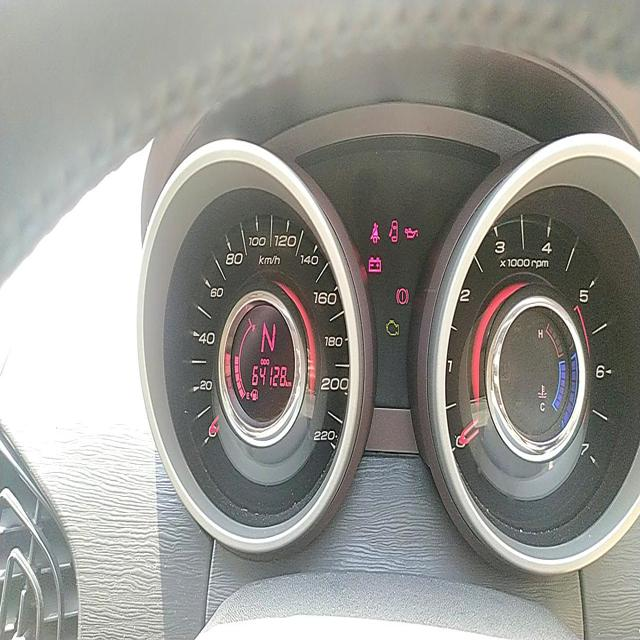odometer: (249, 362, 288, 388)
